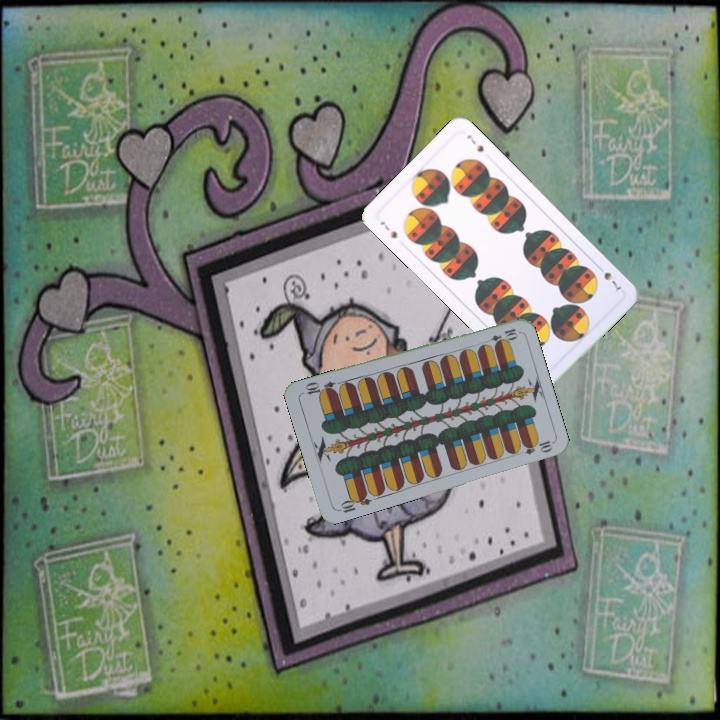E10: (334, 489, 374, 516), (480, 324, 520, 347)
S7: (593, 261, 624, 295), (376, 217, 400, 241)
